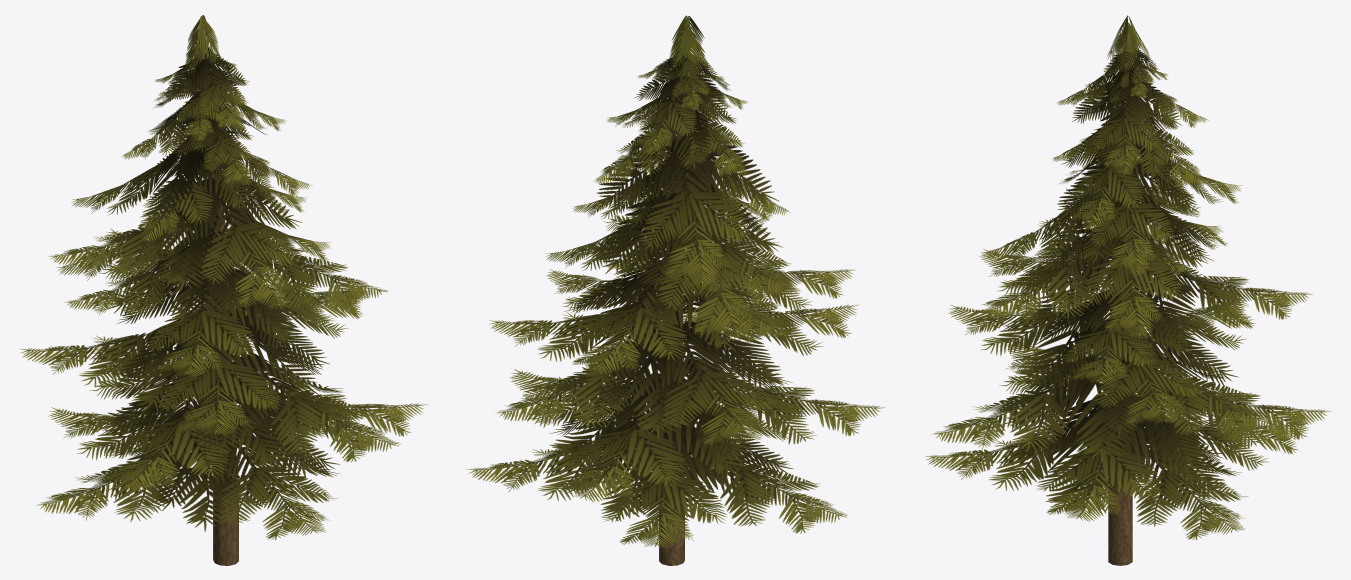
3 renders of one model, left to right at view 1: azimuth 30°, elevation 25°; view 2: azimuth 150°, elevation 25°; view 3: azimuth 270°, elevation 25°, orthographic. The views are drawn at different scales.
Visible parts, largest first — view 1: Leaves/001, Trank.001; view 2: Leaves/001, Trank.001; view 3: Leaves/001, Trank.001.
Part boxes in pixels (box(x1,y1,x2,y2)): Leaves/001: box(19, 15, 427, 540); Trank.001: box(199, 28, 238, 565); Leaves/001: box(466, 15, 885, 548); Trank.001: box(659, 29, 690, 565); Leaves/001: box(924, 15, 1331, 540); Trank.001: box(1108, 28, 1134, 565).
Size of the model in its own units: 4.34 by 6.16 by 4.34.
Materials: 2 (2 with a texture image).
